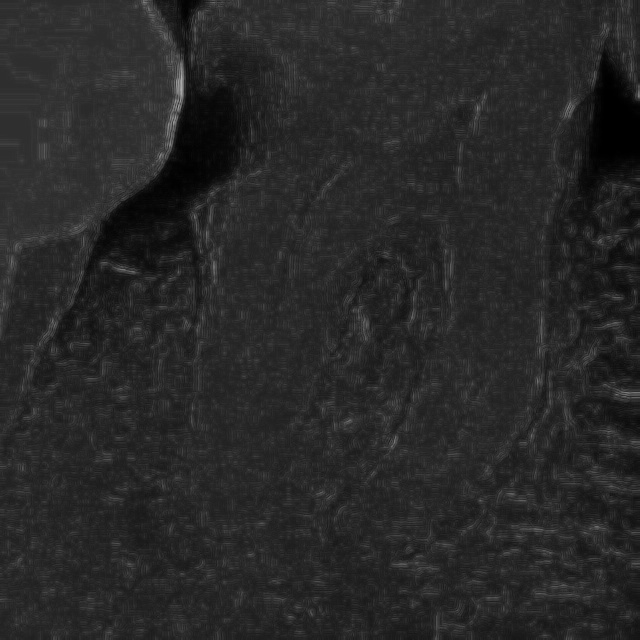cavity: (172, 5, 614, 586)
